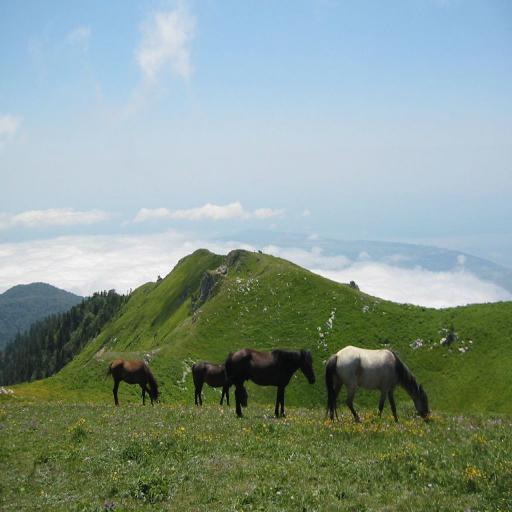Horse: (326, 348, 433, 424), (223, 348, 318, 422), (104, 361, 164, 408), (192, 362, 234, 408)
